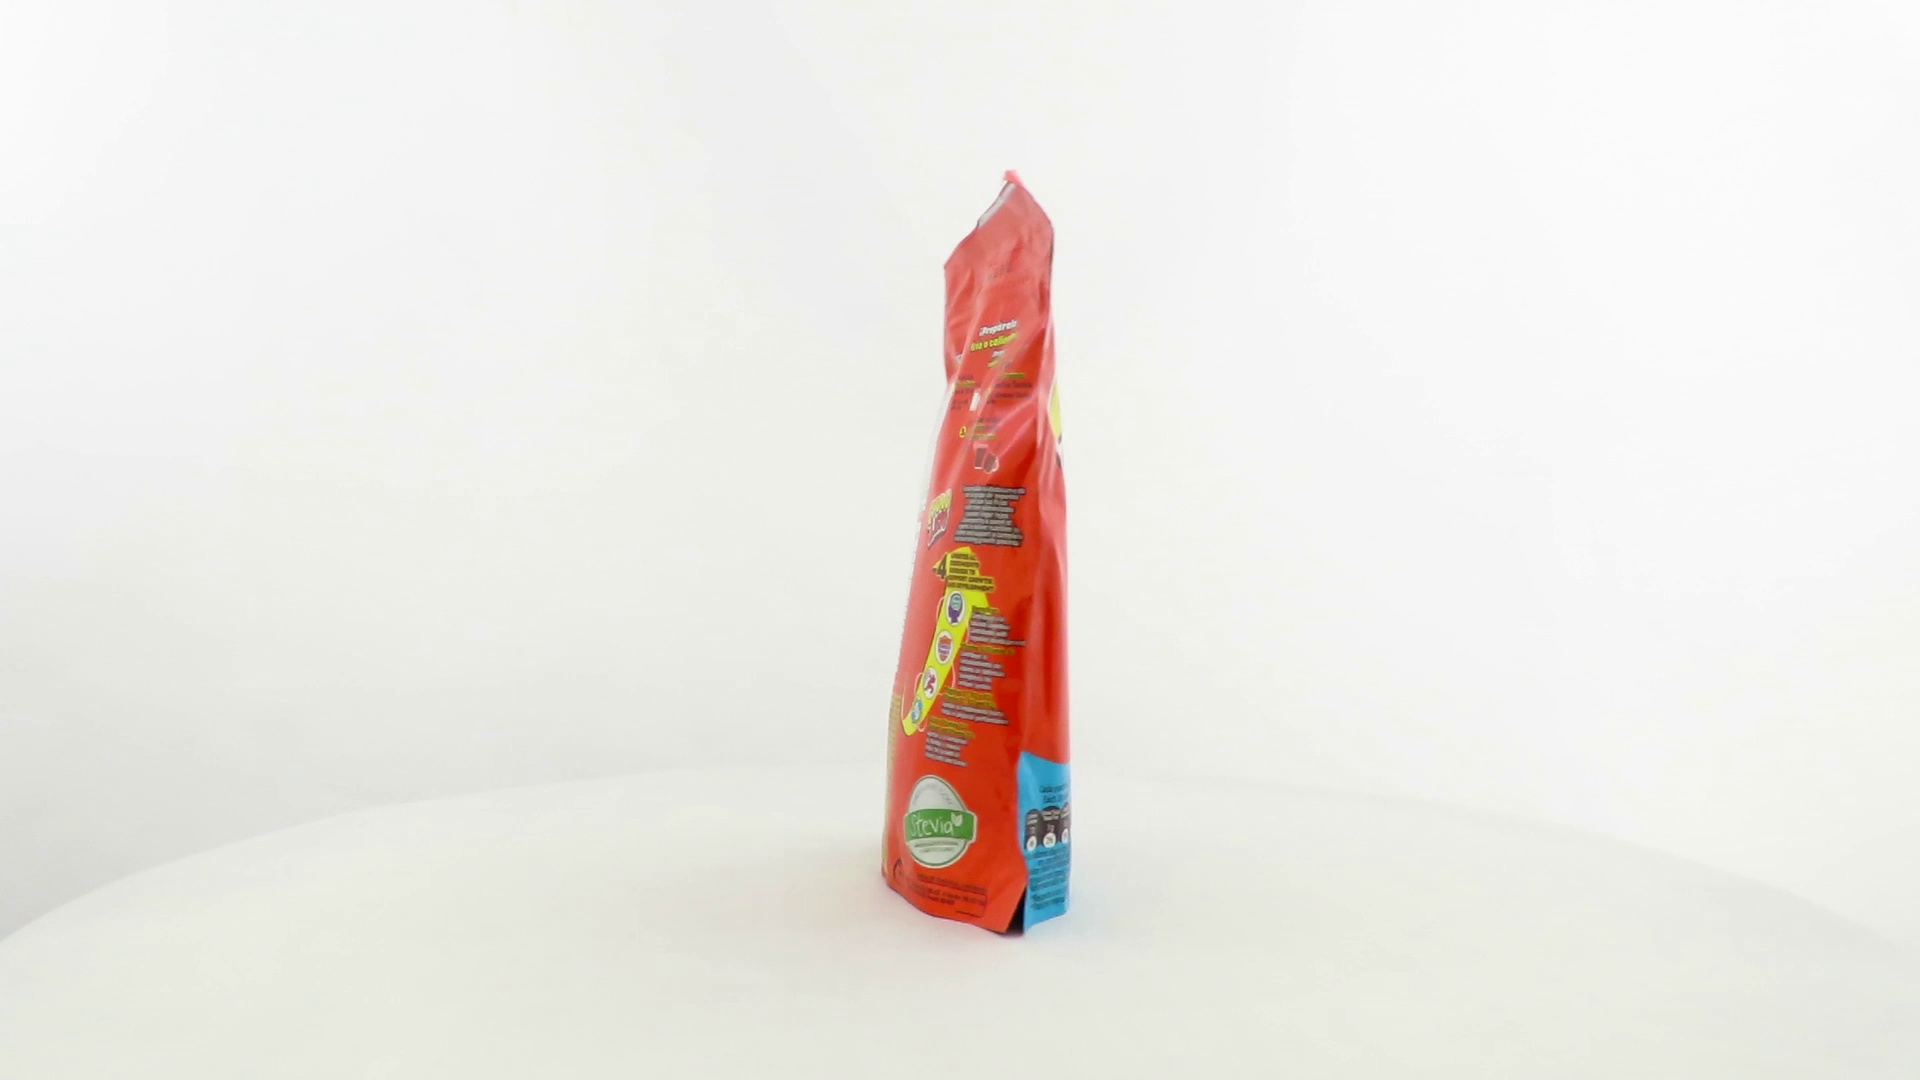COL0170104DYP20000: (876, 165, 1077, 945)
